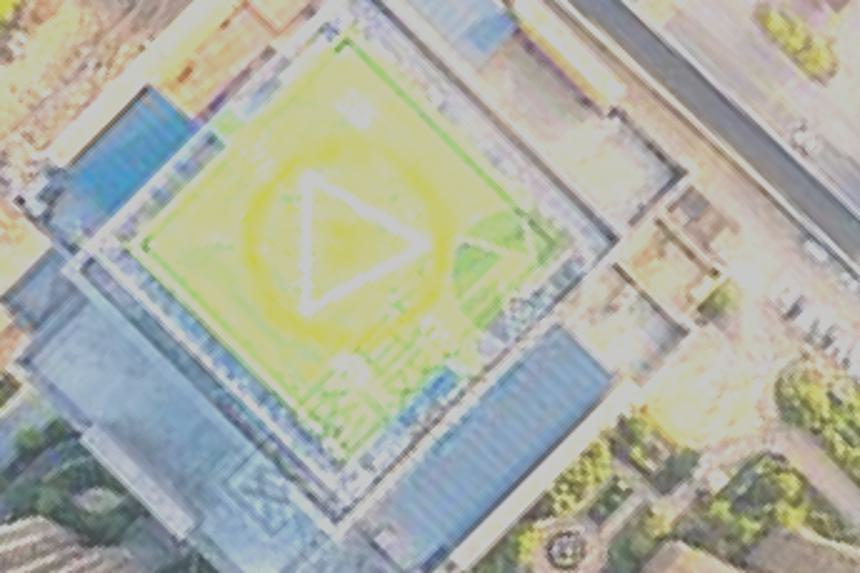Apron: (234, 135, 465, 358)
